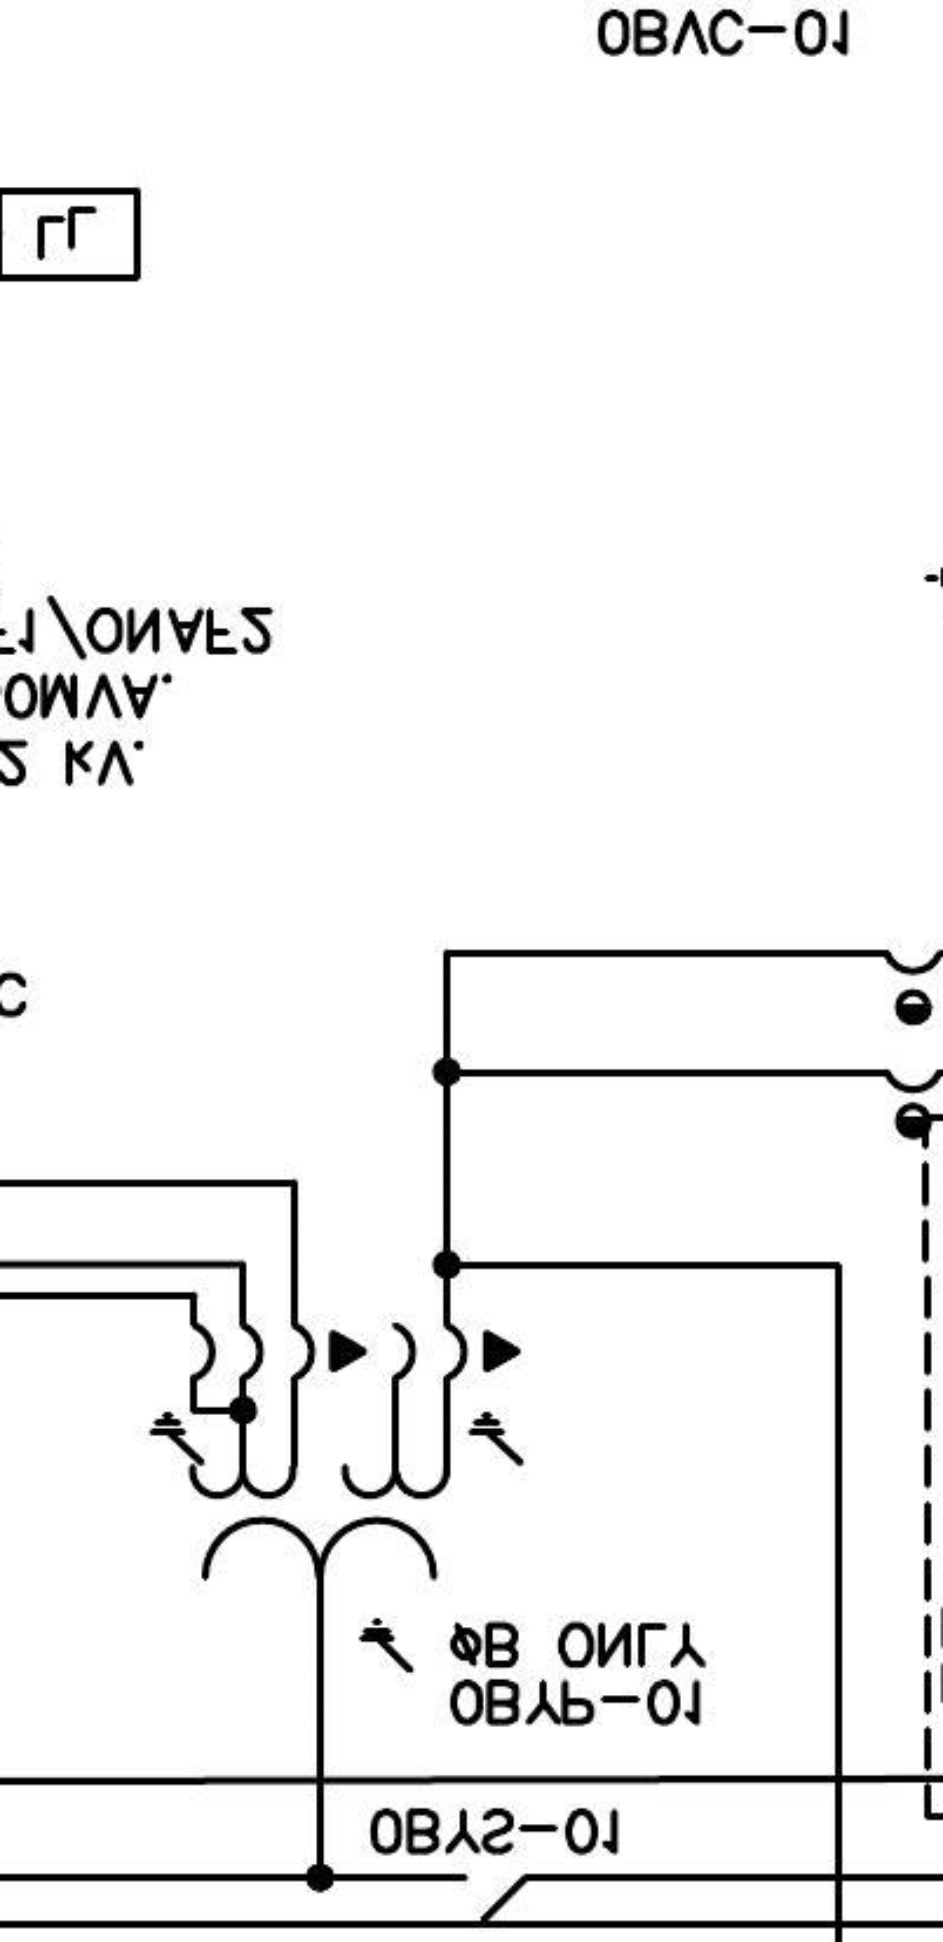115_ds: (458, 1873, 528, 1921)
115_vt_1p: (146, 1322, 525, 1676)
